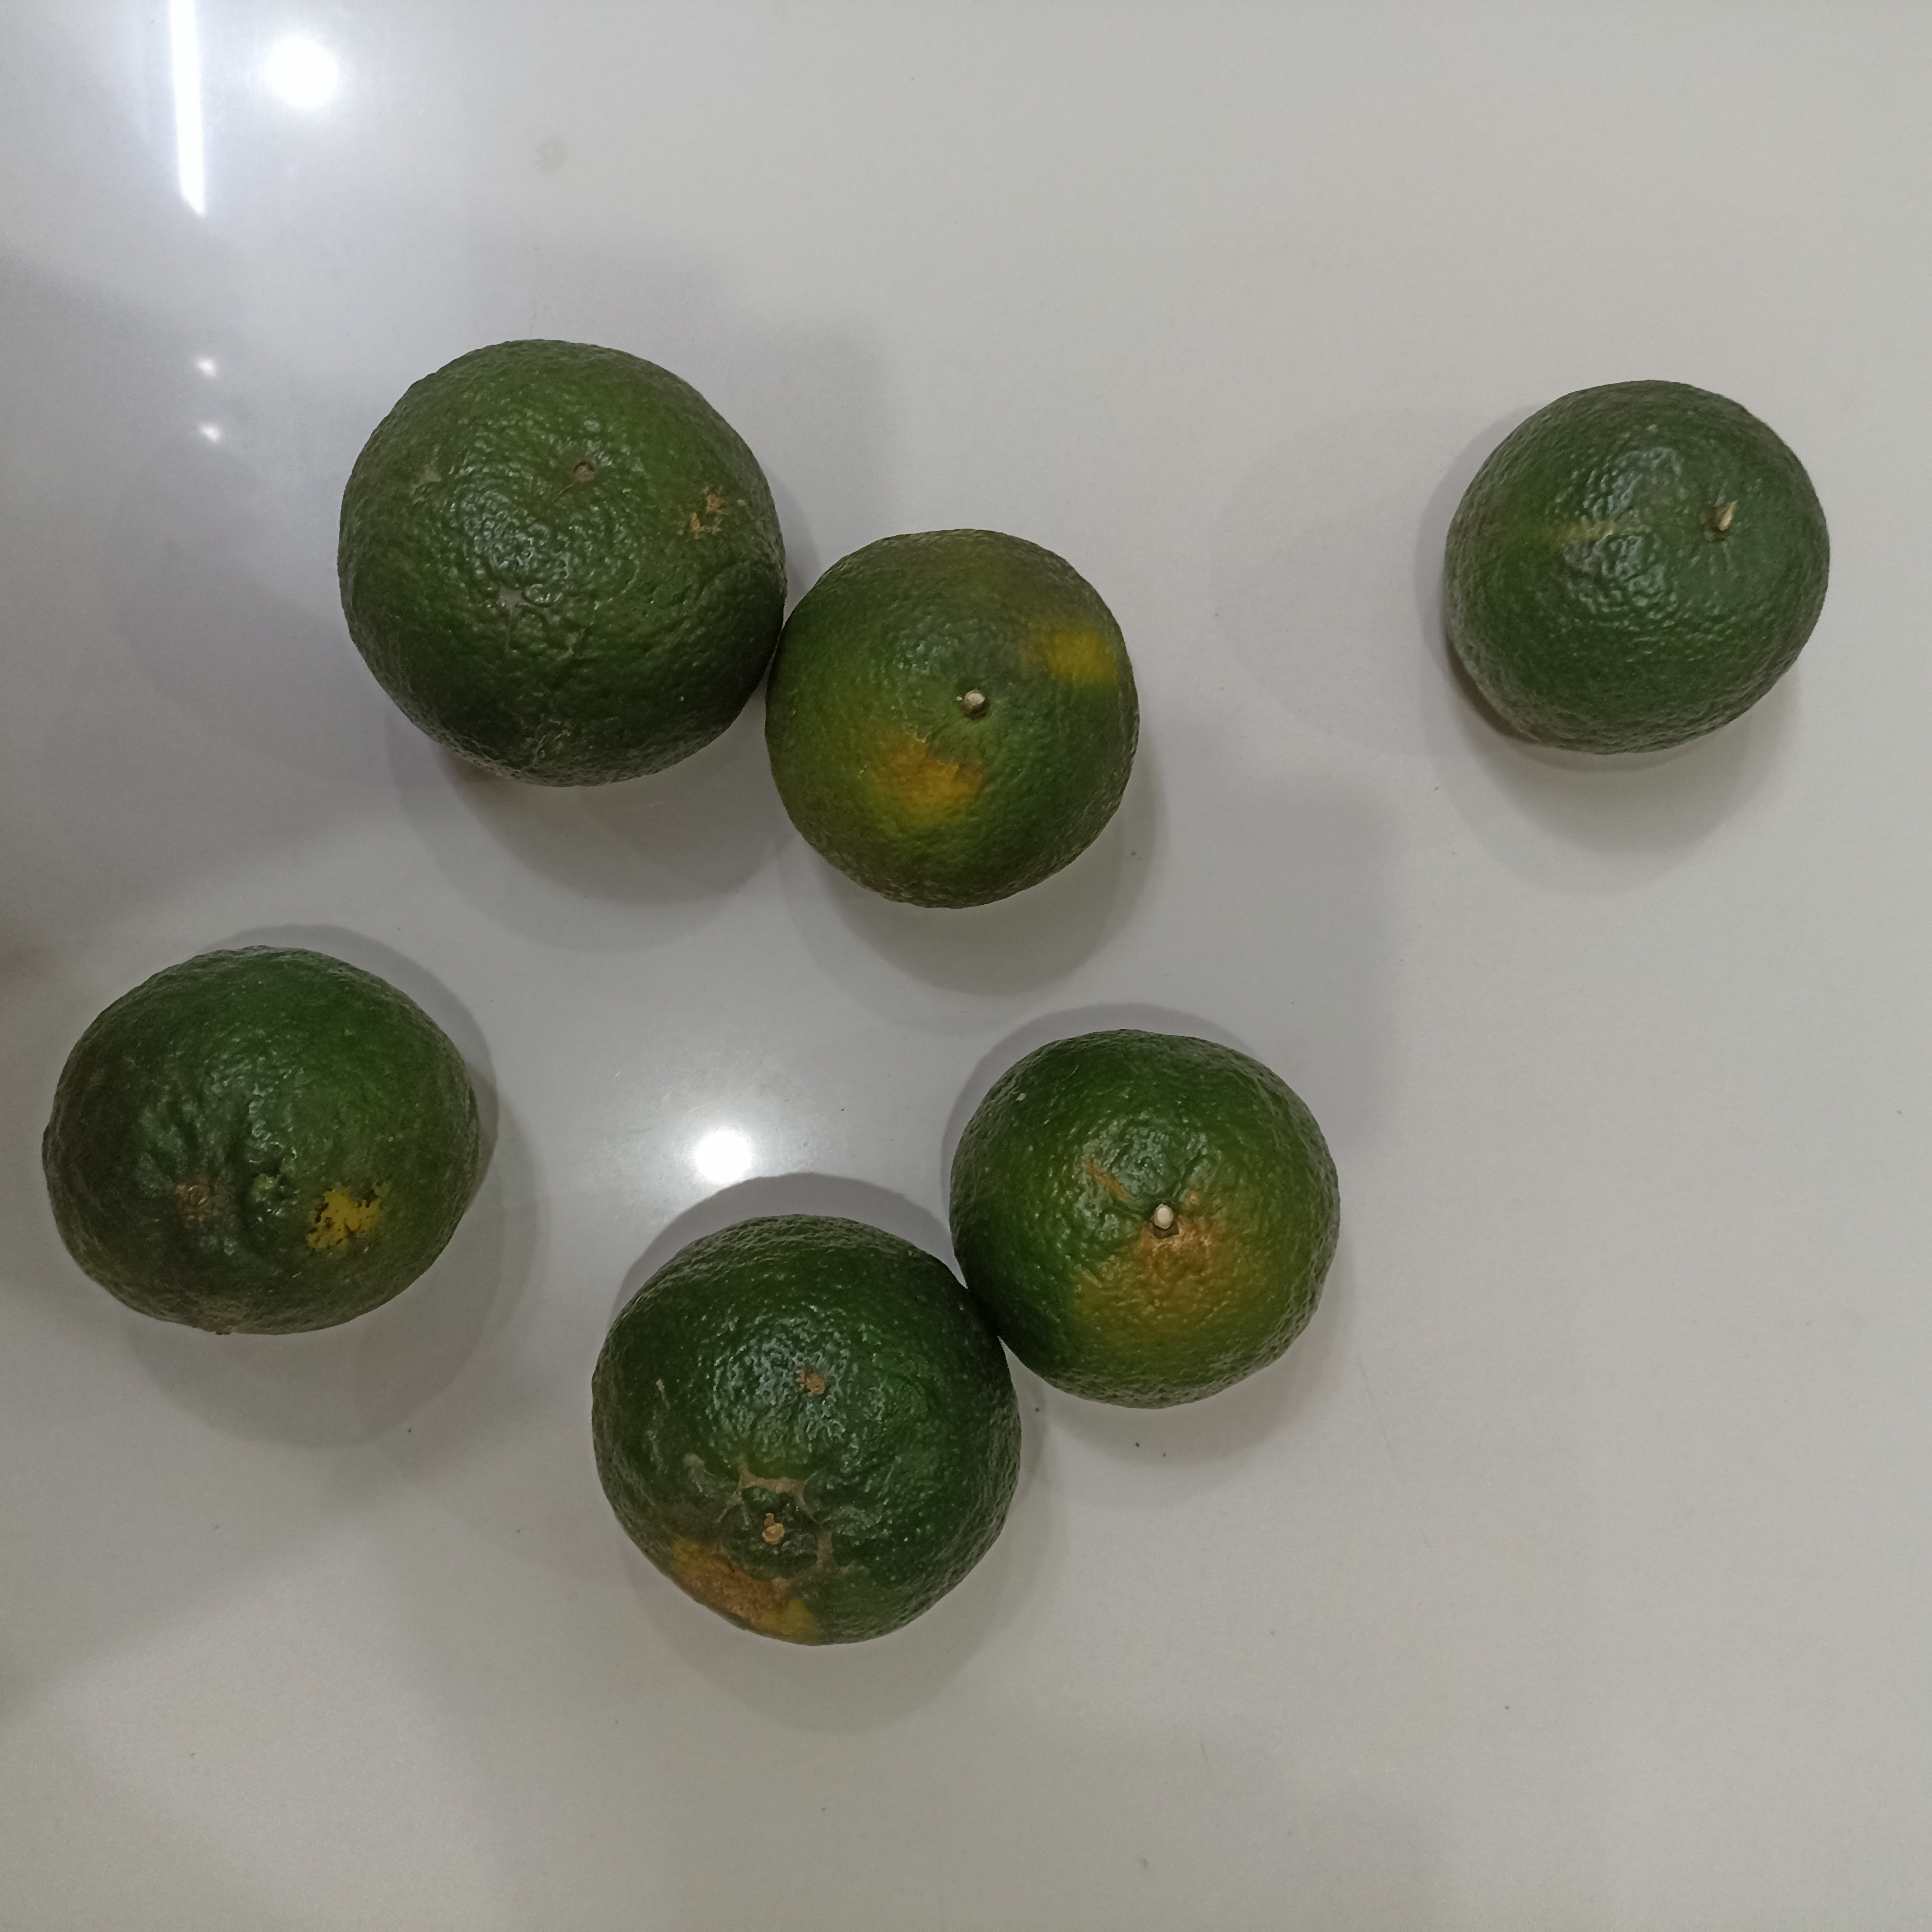Cam: (334, 334, 787, 789), (587, 1214, 1024, 1647), (42, 948, 485, 1341), (1438, 375, 1833, 755), (950, 1017, 1338, 1399), (766, 529, 1143, 915)
